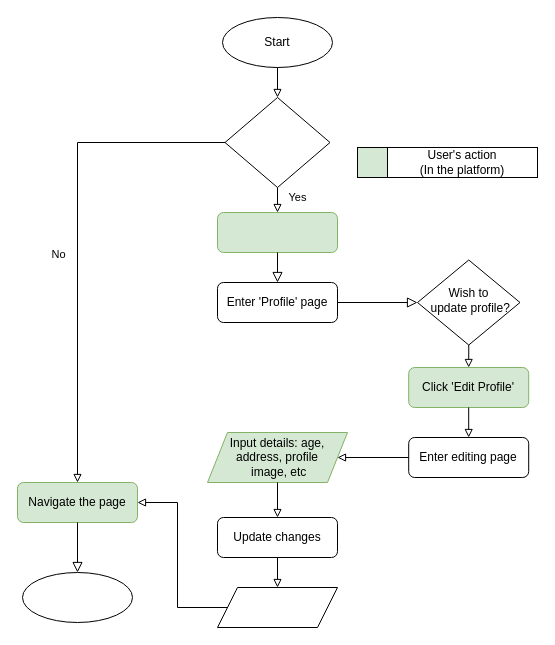
Image size: 555x645. Some labels were removed from this diagram. Each missing label, with the box of its shape:
Click 'Profile': (216, 212, 338, 252)
Display success message: (216, 586, 338, 628)
End: (22, 572, 132, 622)
Is authorized user in login?: (224, 96, 330, 188)
